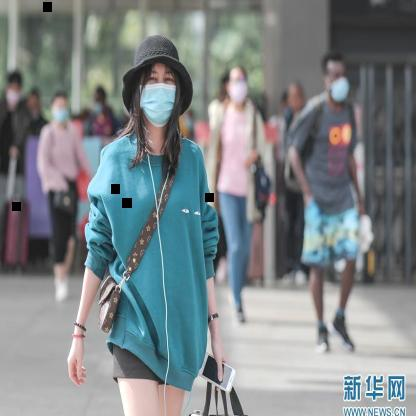mask: (122, 31, 190, 133), (316, 47, 352, 107), (219, 60, 251, 109), (2, 66, 24, 115), (48, 86, 71, 126)
